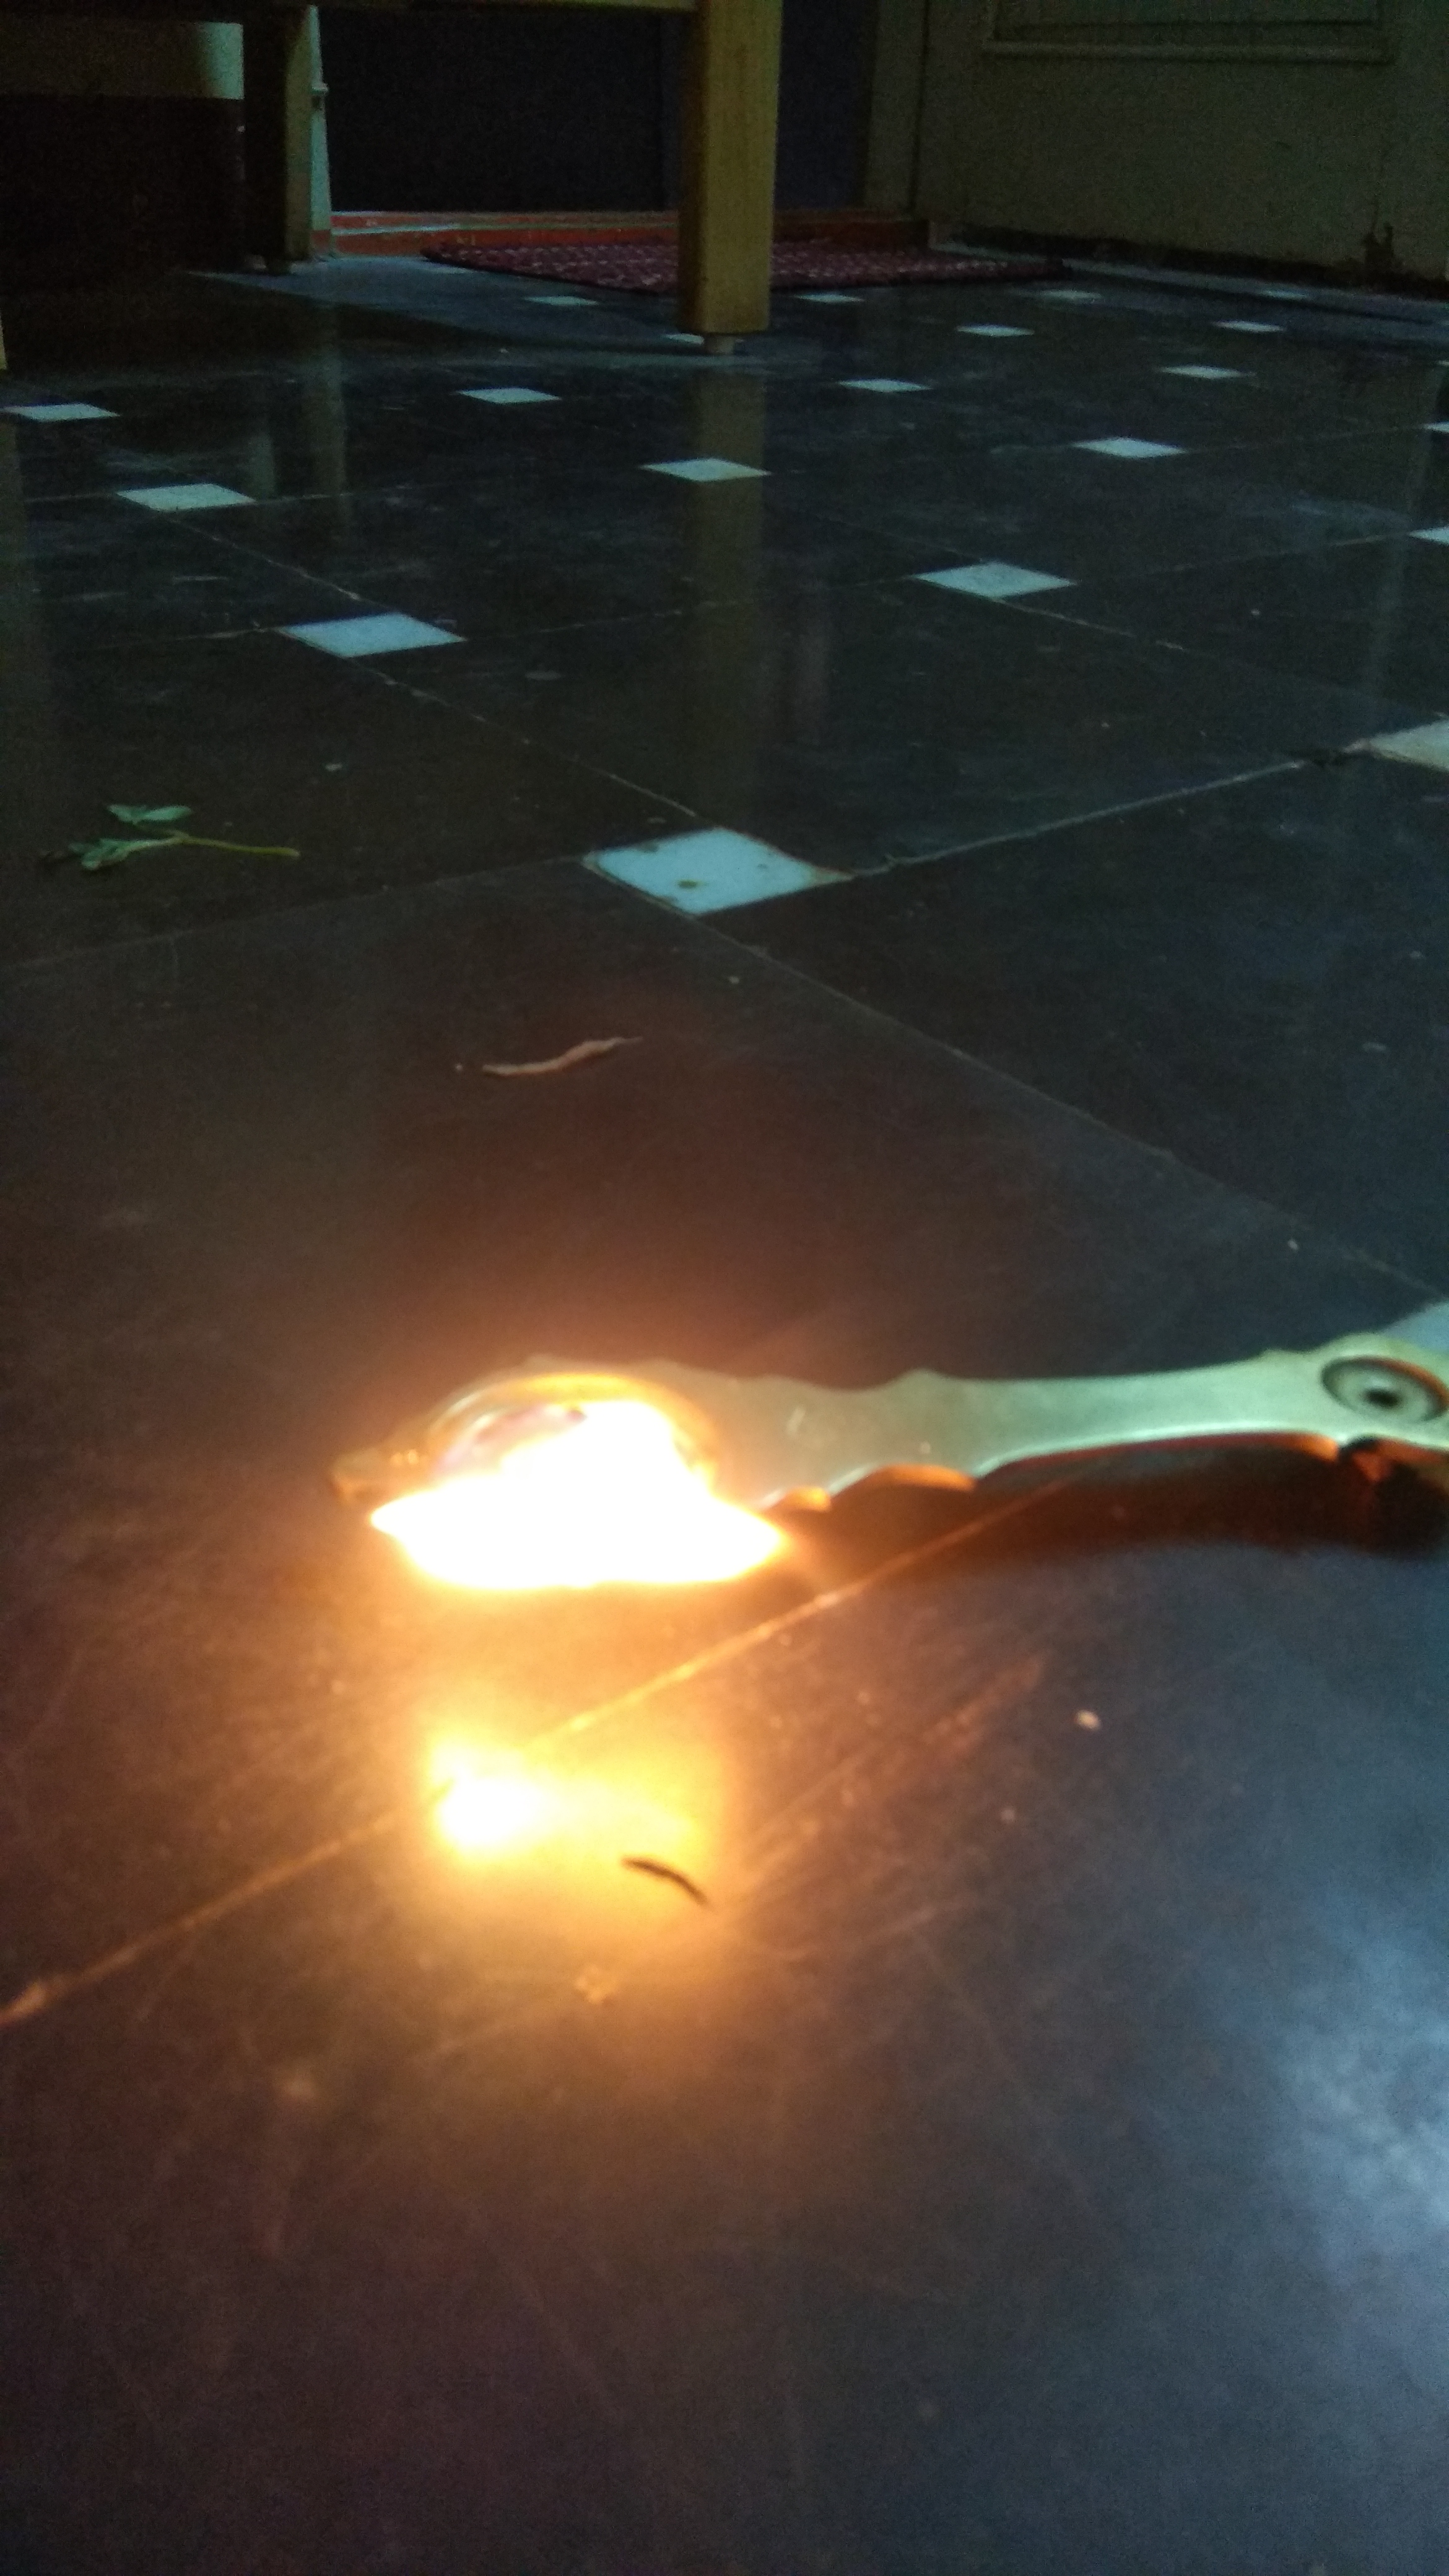Fire: (364, 1394, 816, 1622)
